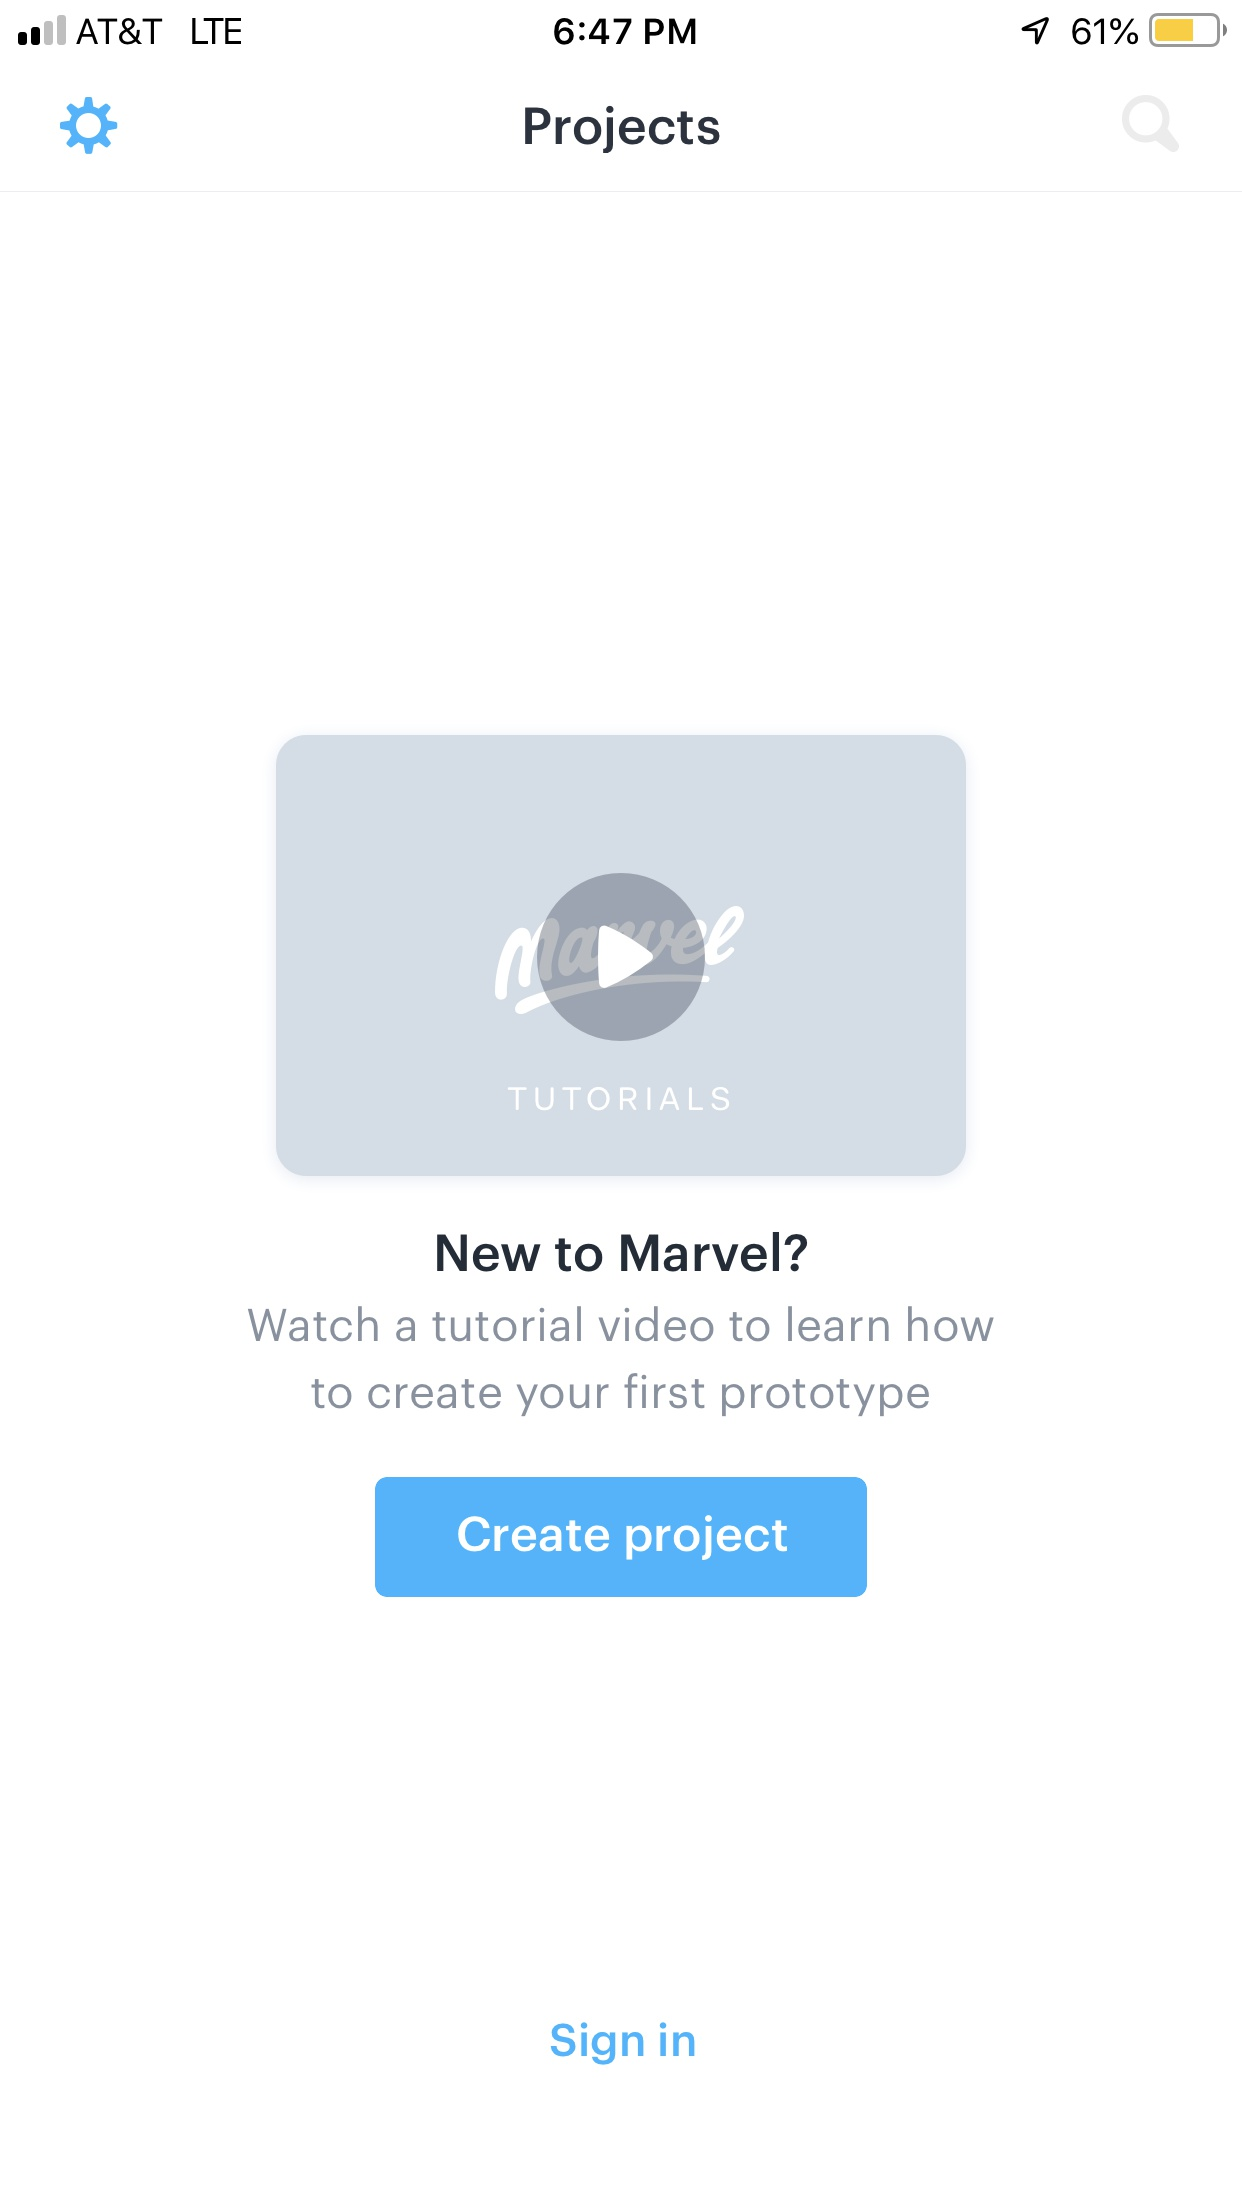Icon: (537, 873, 707, 1043), (1121, 96, 1180, 155), (61, 99, 118, 156)
Text: (249, 1306, 995, 1418), (437, 1231, 808, 1272), (525, 105, 720, 155), (550, 2021, 696, 2065), (507, 1086, 729, 1112)
TextButton: (375, 1477, 867, 1598)
UpperTaskBar: (2, 2, 1242, 49)
